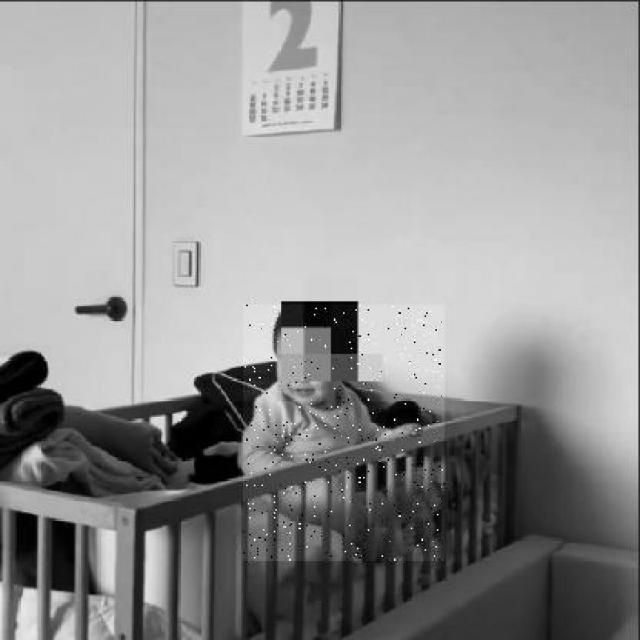child: (243, 305, 445, 561)
